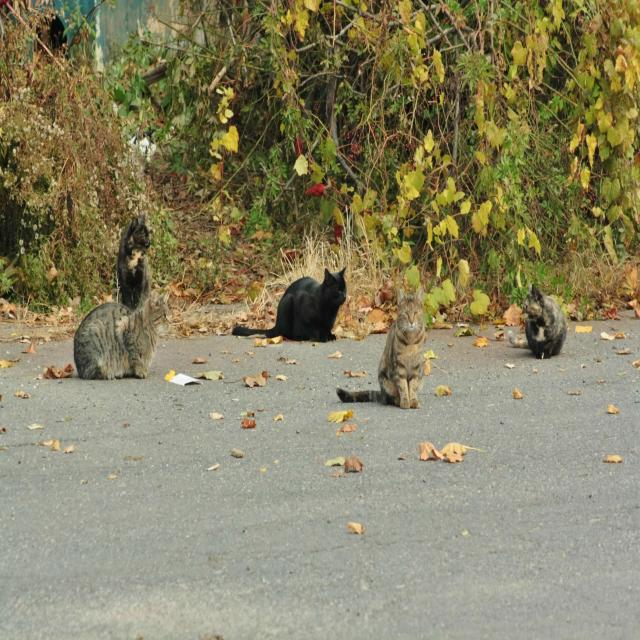cat: (336, 289, 428, 409), (232, 268, 346, 343), (74, 292, 169, 379), (522, 283, 568, 358), (116, 214, 150, 309)
